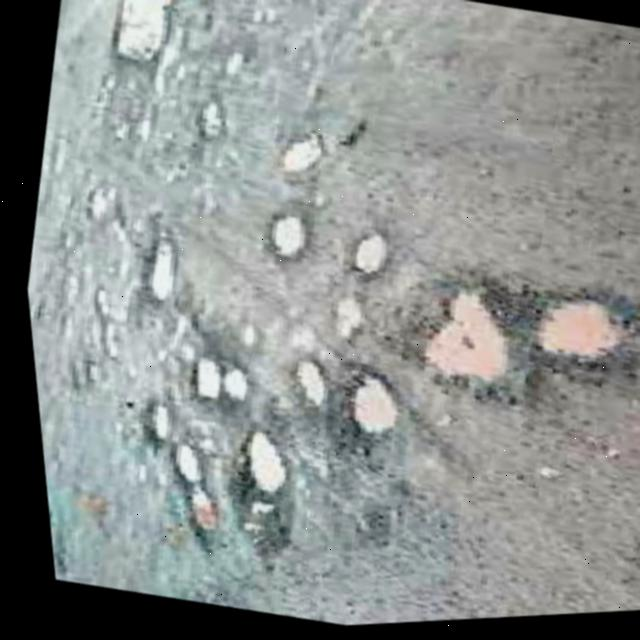Pothole: (395, 276, 515, 397), (513, 288, 622, 378), (321, 369, 400, 451), (98, 0, 187, 71), (214, 426, 283, 500), (124, 229, 181, 309), (159, 481, 216, 555), (270, 355, 327, 415), (264, 130, 324, 183), (251, 210, 305, 264), (338, 229, 385, 282), (315, 294, 361, 346), (120, 397, 166, 447), (175, 354, 216, 404), (150, 441, 194, 485), (186, 98, 224, 143), (206, 366, 244, 408)
